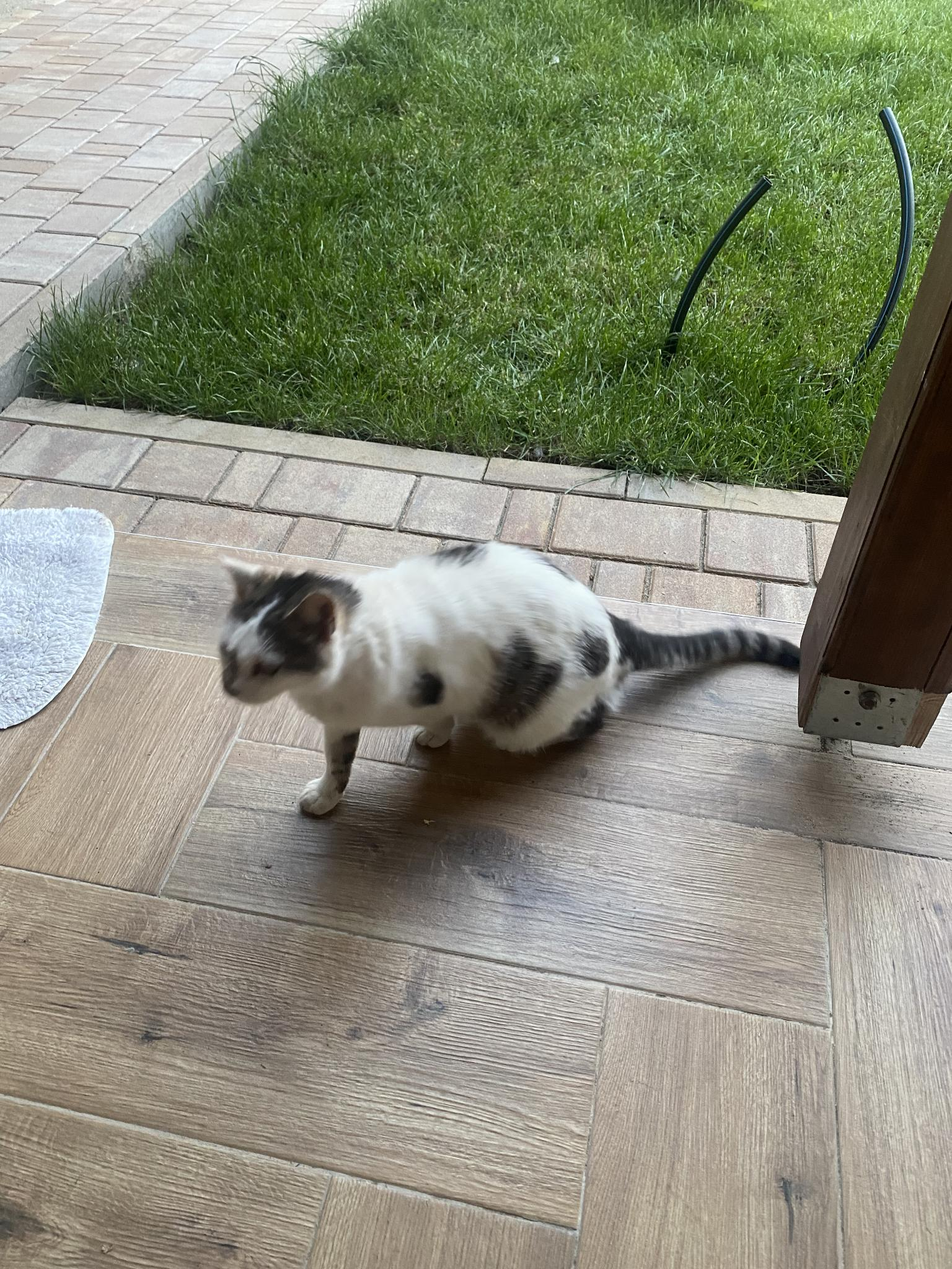macka: (215, 540, 796, 820)
